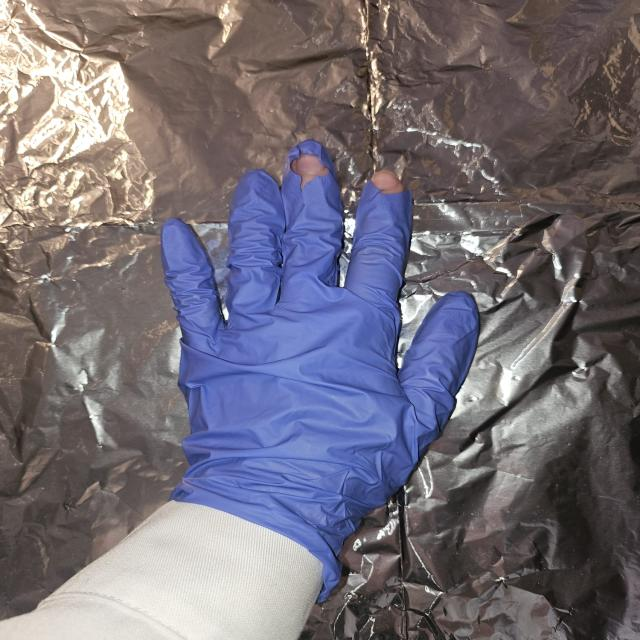gloves_damaged: (158, 137, 483, 502)
